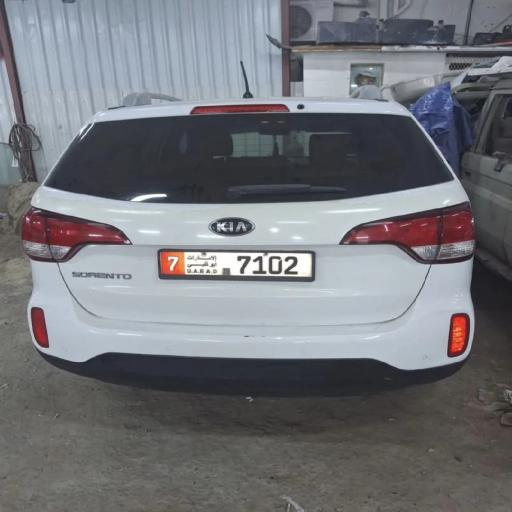license-plates: (161, 252, 313, 277)
